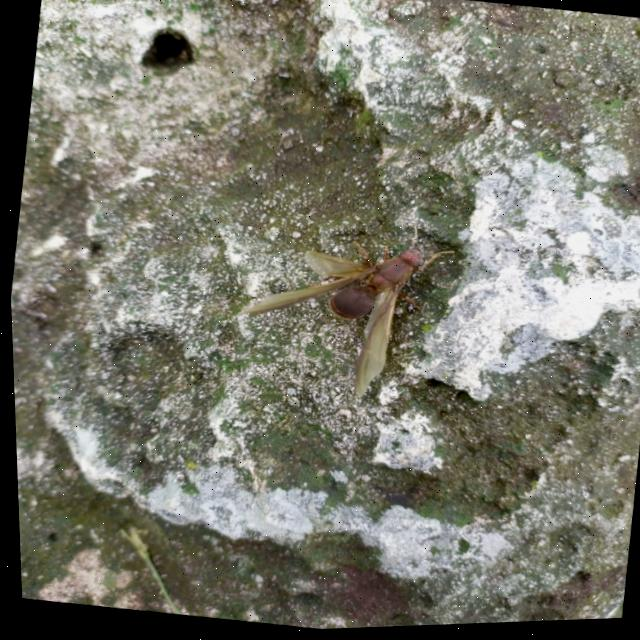Alive-Female-Alate: (222, 204, 459, 415)
